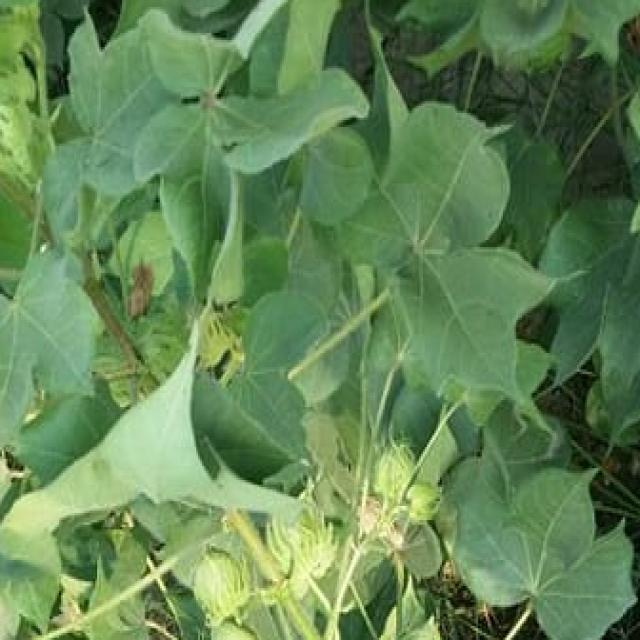Healthy Leaf: (13, 0, 467, 640)
